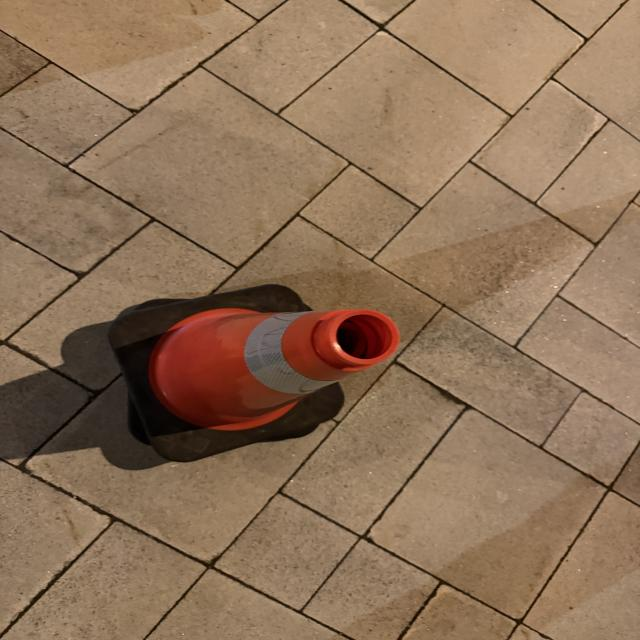Traffic Cone: (108, 283, 402, 462)
